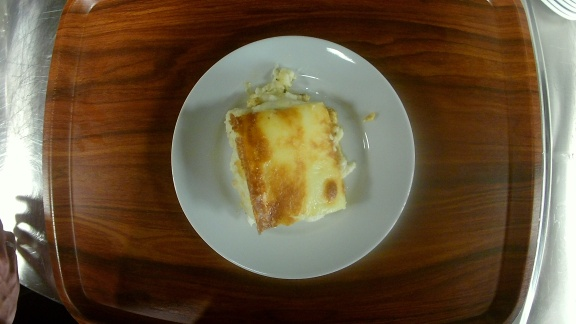firinmakarna: (170, 35, 418, 281)
